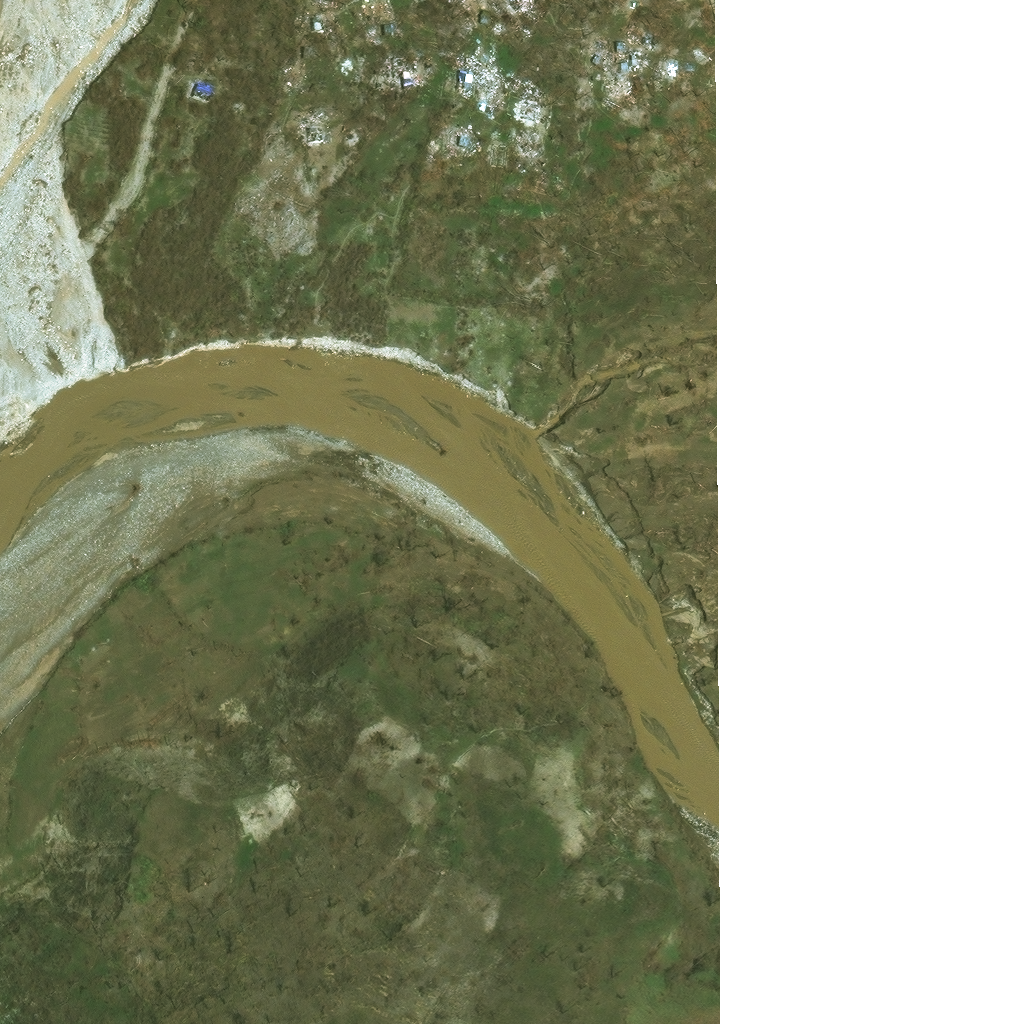destroyed: (522, 124, 551, 153), (524, 94, 549, 116), (289, 63, 310, 84), (306, 124, 326, 143), (480, 73, 495, 95), (316, 13, 334, 30), (375, 0, 393, 15), (640, 43, 655, 61), (469, 0, 487, 14), (501, 43, 516, 59), (502, 71, 518, 83), (514, 0, 529, 9)
major_damage: (447, 127, 473, 147), (617, 67, 639, 89), (390, 56, 408, 82), (455, 70, 472, 91), (604, 32, 619, 50), (619, 47, 635, 61)
